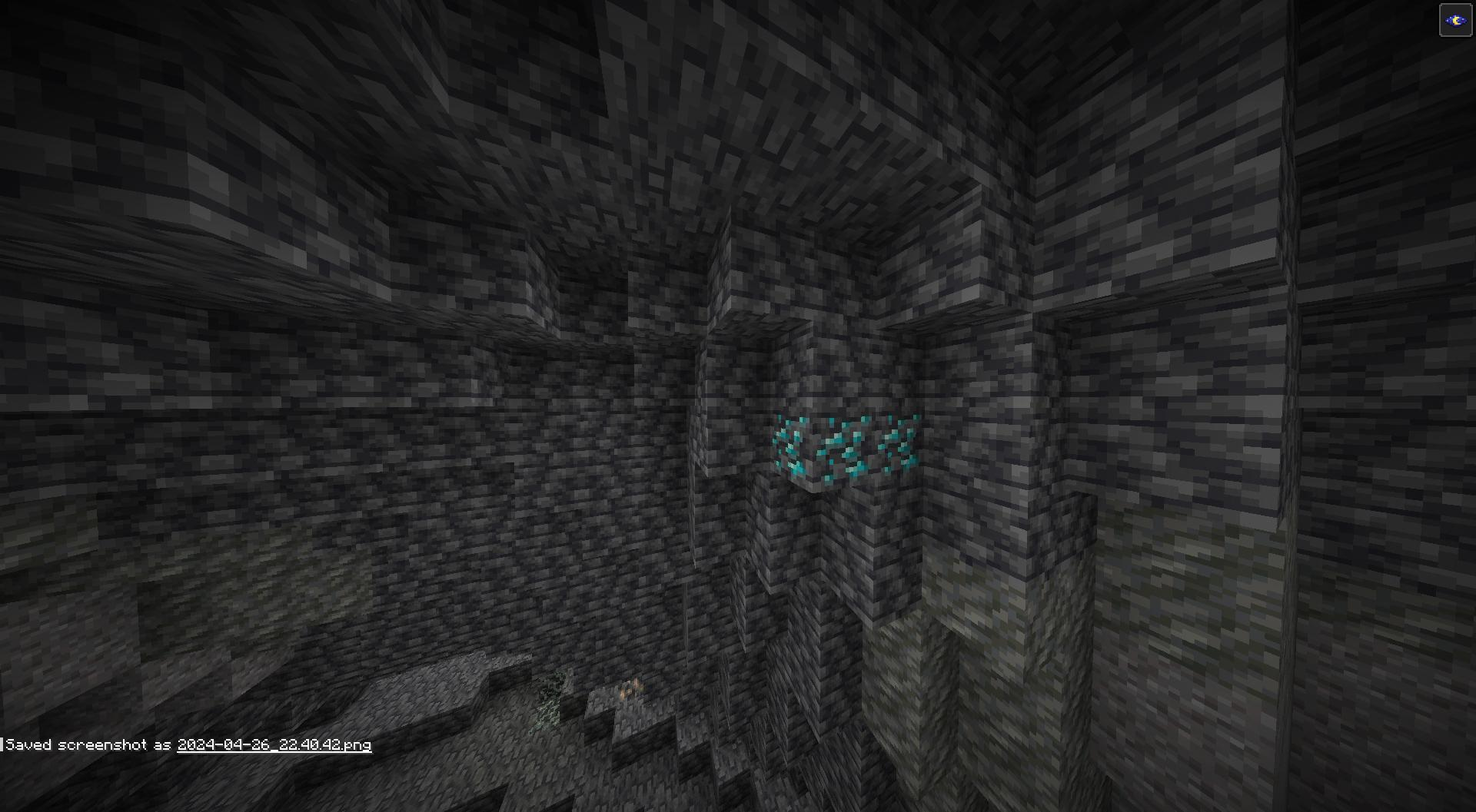diamond ore: (768, 408, 818, 490), (818, 412, 873, 480), (874, 412, 924, 471)
iron ore: (616, 675, 646, 702)
